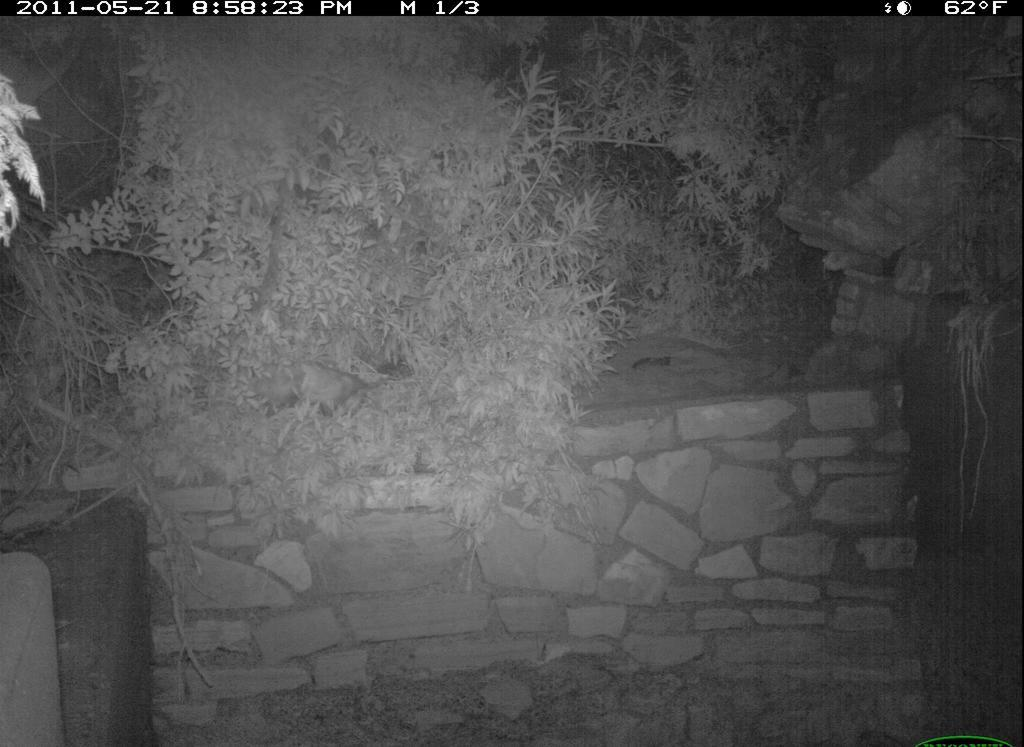opossum: (251, 344, 388, 423)
